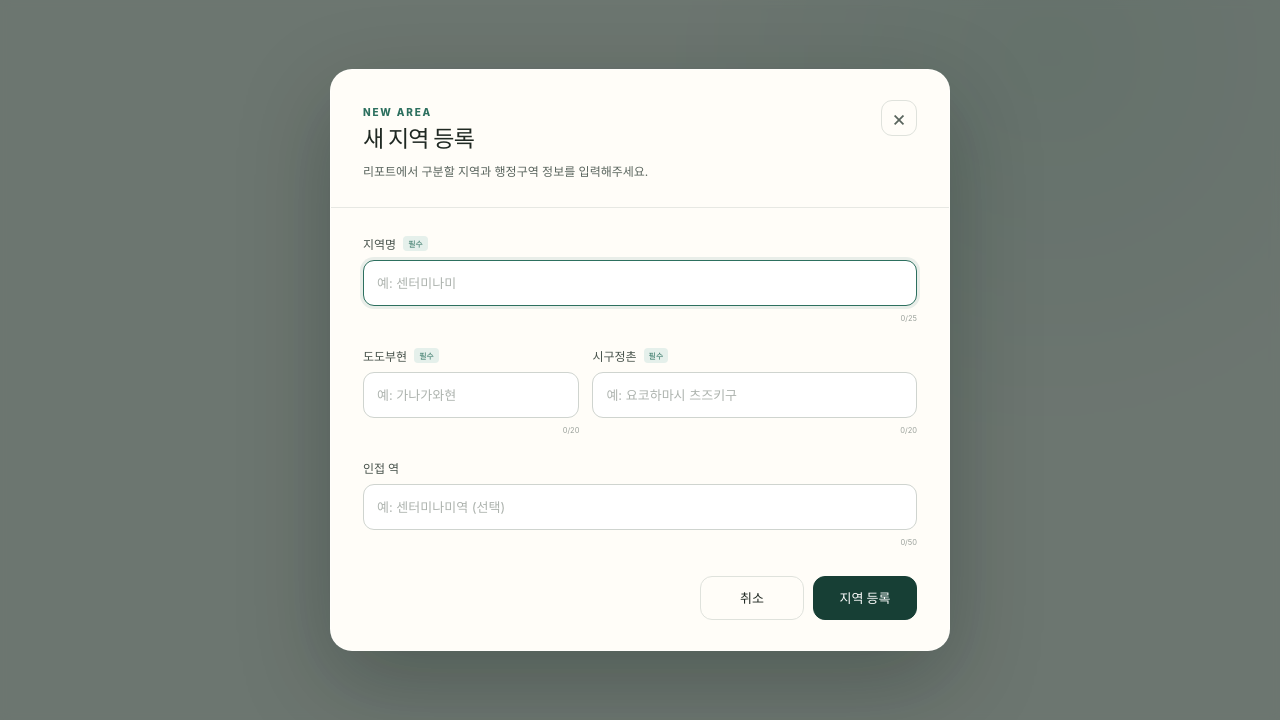
AreaFormDialog › Backend 필드 검증 오류를 해당 입력 아래에 표시한다
This screenshot has width=1280, height=720.
Type "테스트" into the field labelled "지역명 필수" at (640, 283), box [363, 260, 917, 306]
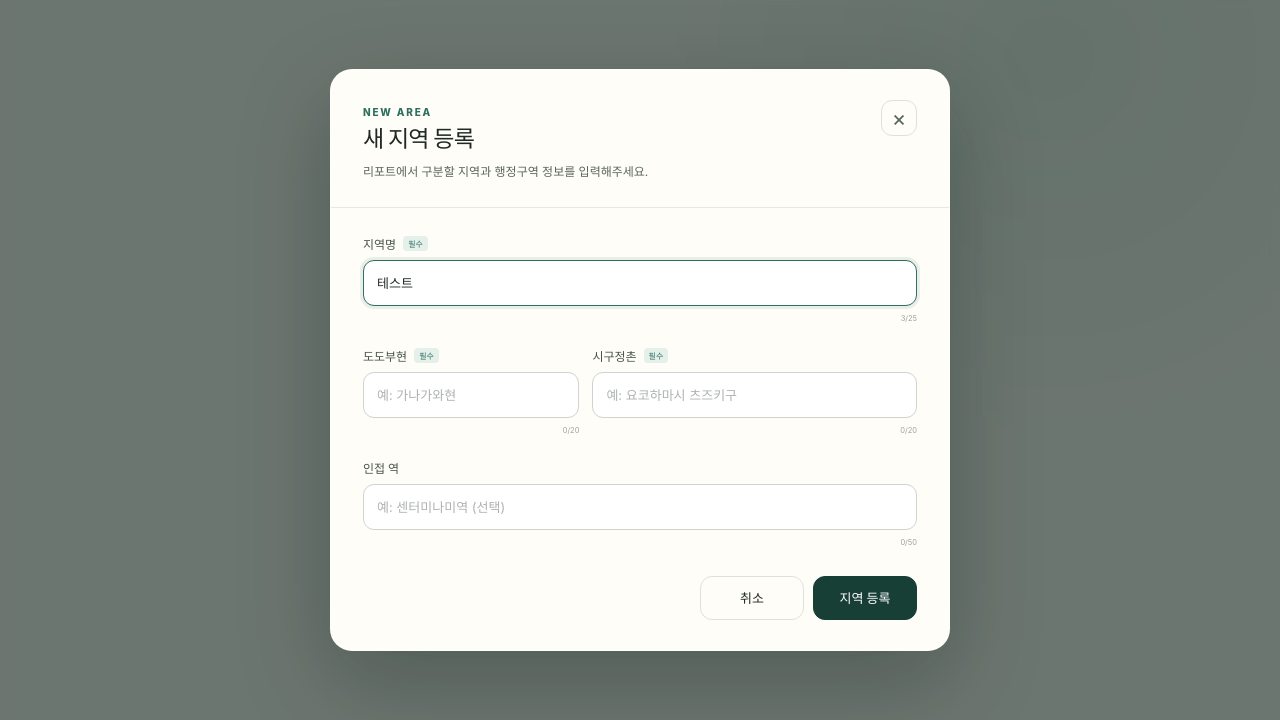
Type "도쿄도" into the field labelled "도도부현 필수" at (471, 395), box [363, 372, 579, 418]
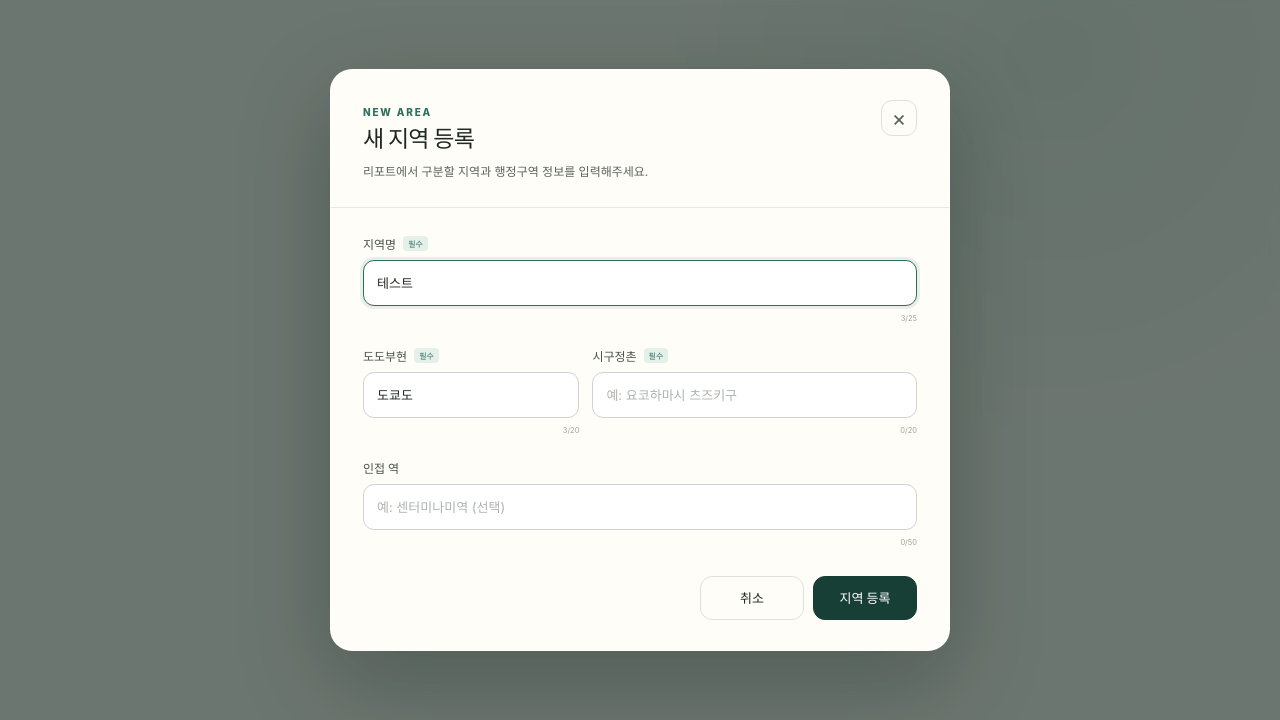
Type "테스트구" into the field labelled "시구정촌 필수" at (755, 395), box [592, 372, 917, 418]
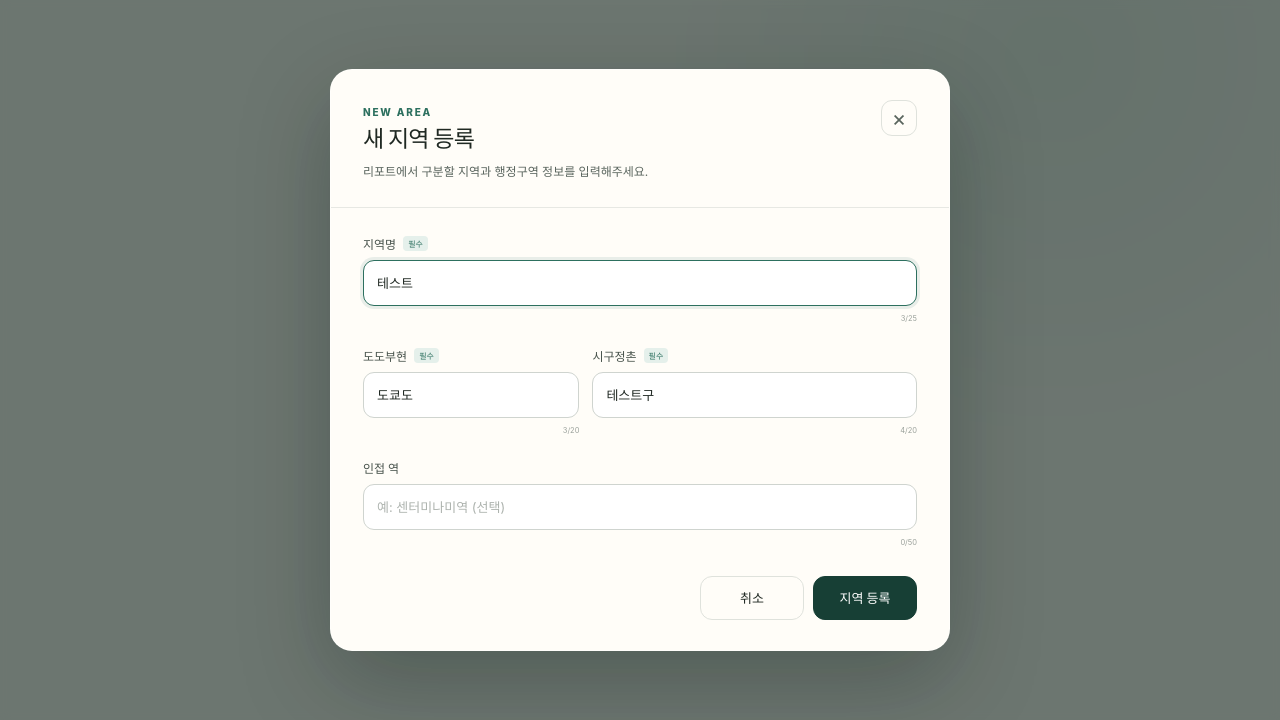
Click the button "지역 등록" at (865, 598), box [813, 576, 917, 620]
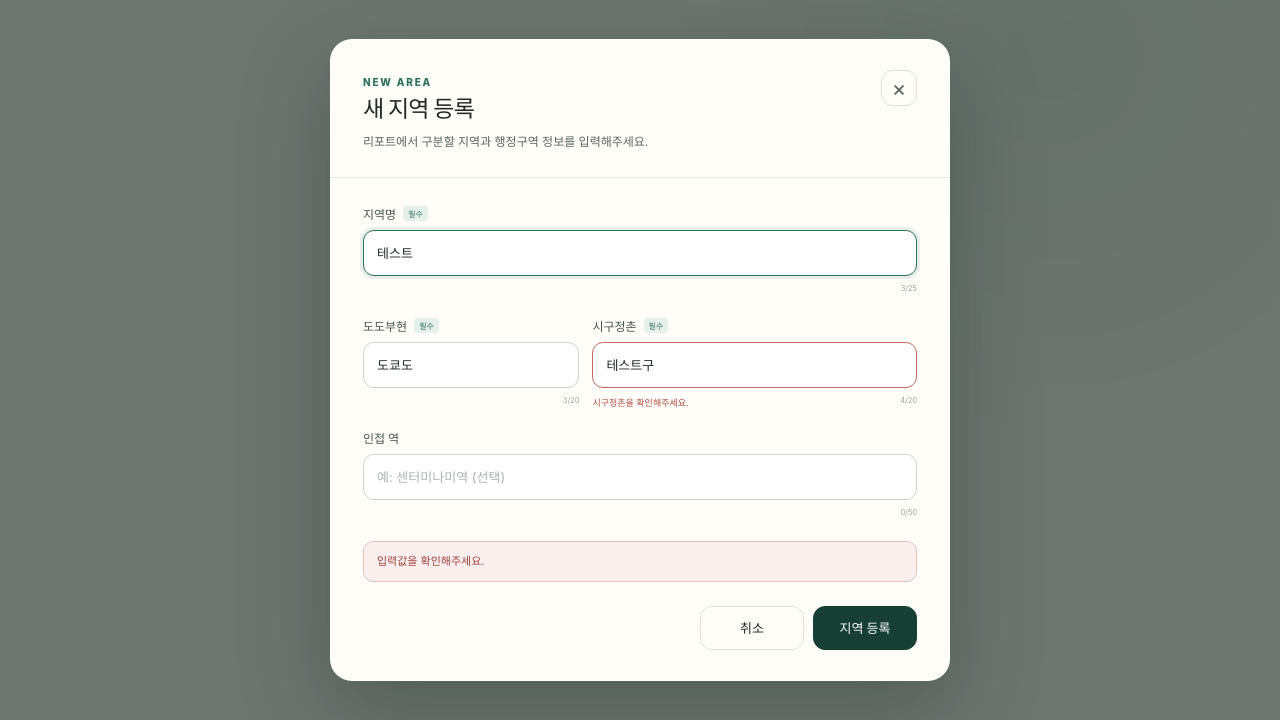
Expected: the text "시구정촌을 확인해주세요." is shown, [592, 396, 689, 410]
Expected: the message reads "입력값을 확인해주세요.", [377, 554, 484, 568]
